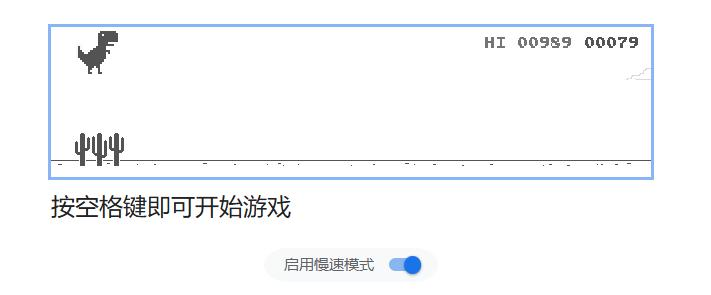cactus: (73, 132, 125, 167)
dino: (75, 29, 118, 75)
